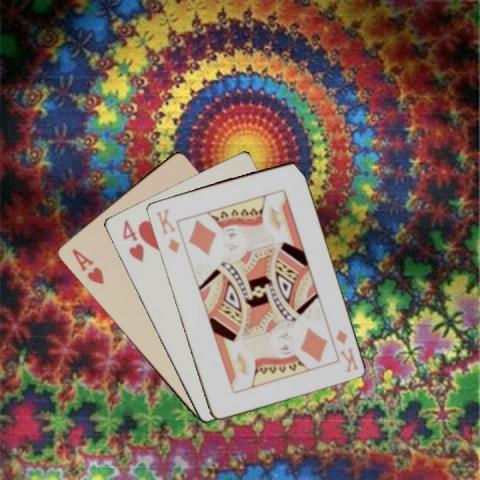4h: (119, 217, 145, 263)
Ah: (68, 245, 105, 286)
Kd: (152, 205, 180, 255), (333, 326, 359, 374)
